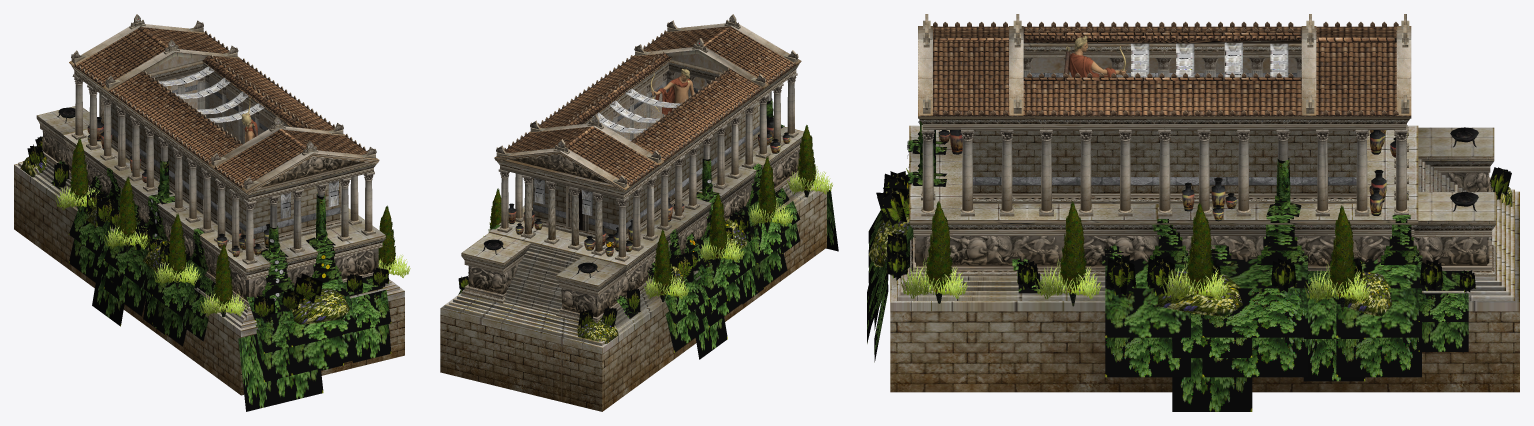
The model's file is sele_wonder.glb.
3 renders of one model, left to right at view 1: azimuth 30°, elevation 25°; view 2: azimuth 150°, elevation 25°; view 3: azimuth 270°, elevation 25°, orthographic. The views are drawn at different scales.
Parts seen in each view (by area): view 1: sele_wonder_part0, sele_wonder_part1, sele_wonder_part2, sele_wonder_part19, sele_wonder_part8, sele_wonder_part5, sele_wonder_part17, sele_wonder_part27, sele_wonder_part11, sele_wonder_part10, sele_wonder_part9, sele_wonder_part6 (+1 smaller); view 2: sele_wonder_part0, sele_wonder_part1, sele_wonder_part2, sele_wonder_part3, sele_wonder_part19, sele_wonder_part5, sele_wonder_part17, sele_wonder_part8, sele_wonder_part11, sele_wonder_part6, sele_wonder_part9, sele_wonder_part10; view 3: sele_wonder_part0, sele_wonder_part1, sele_wonder_part2, sele_wonder_part21, sele_wonder_part27, sele_wonder_part23, sele_wonder_part25, sele_wonder_part12, sele_wonder_part15, sele_wonder_part14, sele_wonder_part13, sele_wonder_part3.
Boxes of the visible parts, x1,y1,x2,y2 form: sele_wonder_part0: (14, 14, 404, 395); sele_wonder_part1: (20, 136, 391, 411); sele_wonder_part2: (42, 131, 378, 301); sele_wonder_part19: (214, 244, 232, 310); sele_wonder_part8: (118, 177, 136, 242); sele_wonder_part5: (70, 138, 88, 203); sele_wonder_part17: (168, 213, 186, 279); sele_wonder_part27: (378, 205, 395, 269); sele_wonder_part11: (199, 292, 247, 316); sele_wonder_part10: (153, 262, 200, 285); sele_wonder_part9: (103, 225, 148, 249); sele_wonder_part6: (55, 186, 99, 209); sele_wonder_part0: (440, 14, 826, 411); sele_wonder_part1: (458, 98, 838, 359); sele_wonder_part2: (468, 149, 799, 317); sele_wonder_part3: (650, 68, 694, 114); sele_wonder_part19: (797, 125, 815, 190); sele_wonder_part5: (653, 229, 672, 295); sele_wonder_part17: (758, 156, 776, 222); sele_wonder_part8: (708, 193, 727, 258); sele_wonder_part11: (786, 164, 832, 194); sele_wonder_part6: (642, 269, 689, 299); sele_wonder_part9: (698, 232, 744, 262); sele_wonder_part10: (747, 196, 793, 226); sele_wonder_part0: (890, 14, 1519, 392); sele_wonder_part1: (867, 120, 1512, 411); sele_wonder_part2: (914, 172, 1489, 266); sele_wonder_part21: (1329, 205, 1355, 297); sele_wonder_part27: (925, 201, 952, 293); sele_wonder_part23: (1186, 203, 1213, 293); sele_wonder_part25: (1059, 201, 1086, 293); sele_wonder_part12: (1304, 263, 1370, 303); sele_wonder_part15: (901, 258, 967, 298); sele_wonder_part14: (1034, 259, 1101, 298); sele_wonder_part13: (1162, 260, 1228, 300); sele_wonder_part3: (1063, 36, 1126, 77).
Bounding box in the file's own units: 3.43 × 3.57 × 6.5.
Materials: 7 (7 with a texture image).
